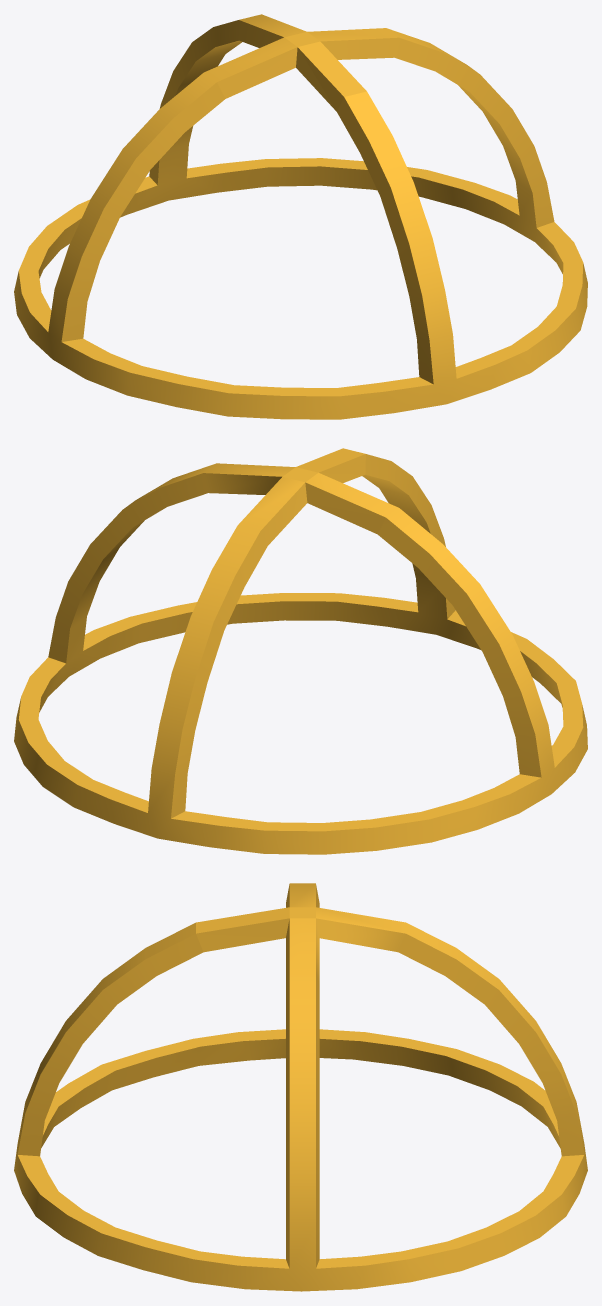
File: tianguang.FBX
The picture shows the model from 3 angles, top to bottom: view 1: azimuth 30°, elevation 25°; view 2: azimuth 150°, elevation 25°; view 3: azimuth 270°, elevation 25°; orthographic projection.
Visible parts, largest first — view 1: Sphere001; view 2: Sphere001; view 3: Sphere001.
Part boxes in pixels (x1,y1,x2,y2): Sphere001: [14, 14, 587, 419]; Sphere001: [14, 448, 587, 854]; Sphere001: [14, 883, 587, 1291].
Size of the model in its own units: 14.41 by 7.14 by 14.41.
